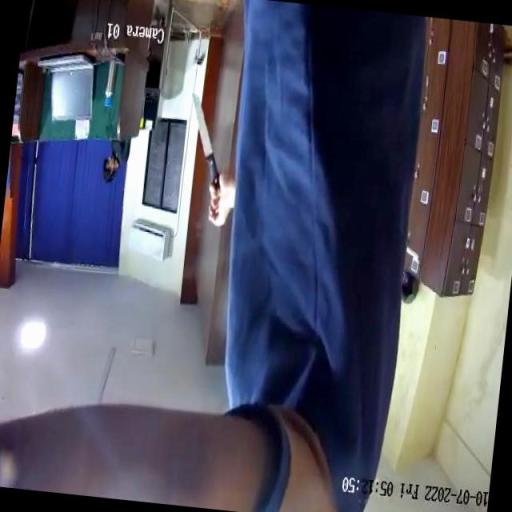knife: (179, 90, 232, 220)
